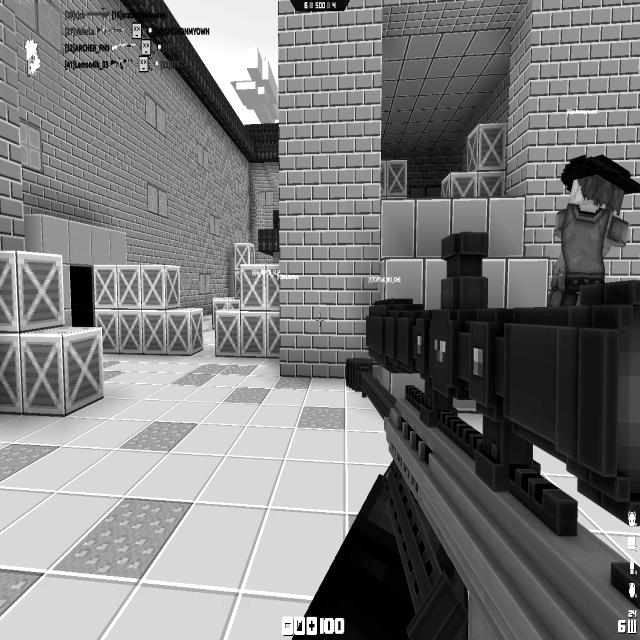Head: (561, 153, 640, 216)
Player: (548, 153, 640, 307)
